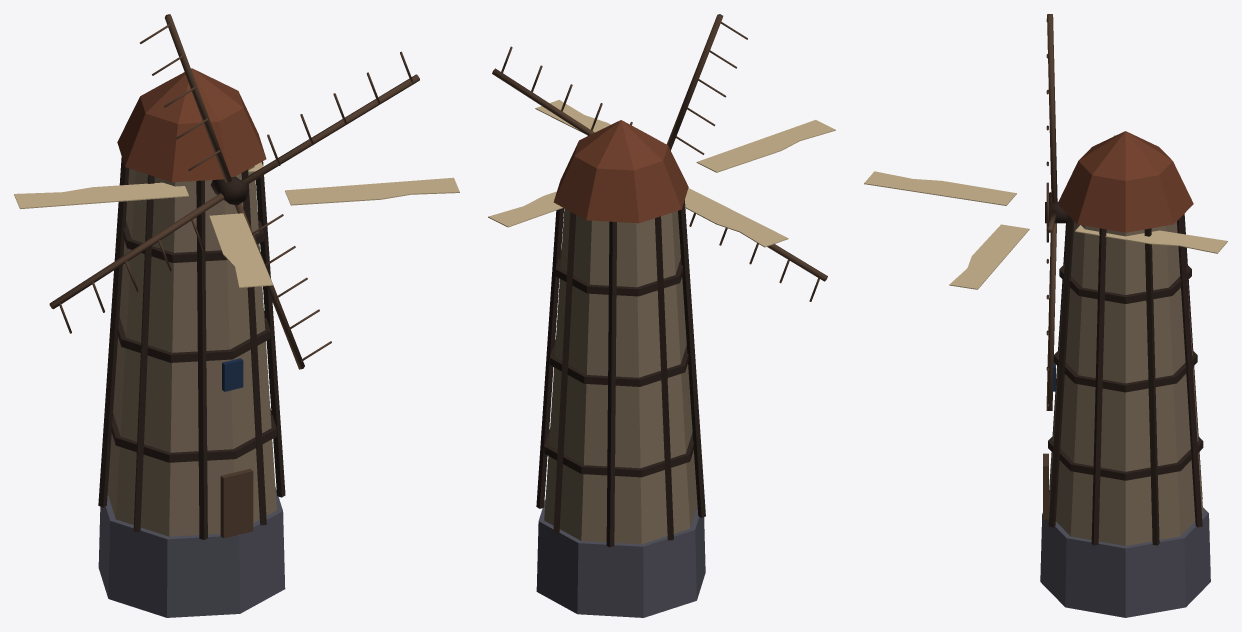
File: windmill.glb
The picture shows the model from 3 angles, left to right: view 1: azimuth 30°, elevation 25°; view 2: azimuth 150°, elevation 25°; view 3: azimuth 270°, elevation 25°; orthographic projection. The views are drawn at different scales.
Parts seen in each view (by area): view 1: windmill; view 2: windmill; view 3: windmill.
Part boxes in pixels (left/top/right/bottom): windmill: left=14, top=14, right=459, bottom=617; windmill: left=488, top=14, right=835, bottom=617; windmill: left=864, top=14, right=1227, bottom=617.
Bounding box in the file's own units: 3.97 × 6.28 × 3.84.
